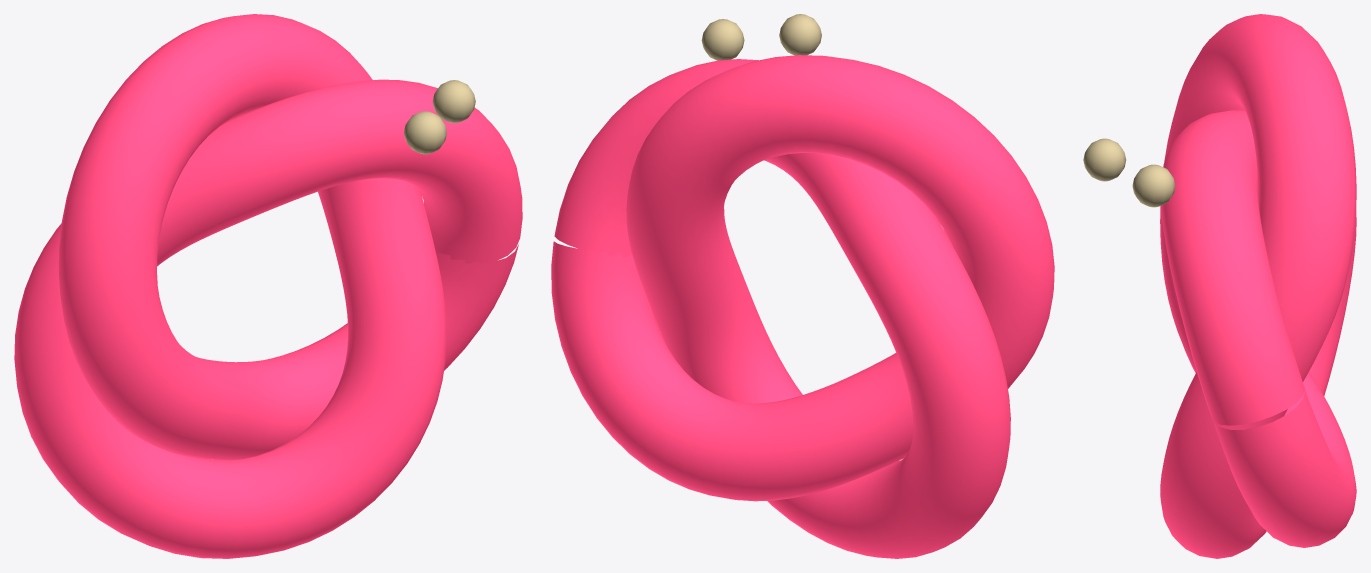
File: serpent.glb
3 views of the same model, side by side, from view 1: azimuth 30°, elevation 25°; view 2: azimuth 150°, elevation 25°; view 3: azimuth 270°, elevation 25° (orthographic).
Parts seen in each view (by area): view 1: knot, eyes; view 2: knot, eyes; view 3: knot, eyes.
Part boxes in pixels (box(x1,y1,x2,y2)): knot: box(14, 14, 522, 558); eyes: box(404, 80, 475, 154); knot: box(551, 55, 1054, 558); eyes: box(701, 14, 821, 60); knot: box(1160, 14, 1356, 558); eyes: box(1083, 138, 1175, 207).
Bounding box in the file's own units: 1.76 × 1.81 × 0.89.
